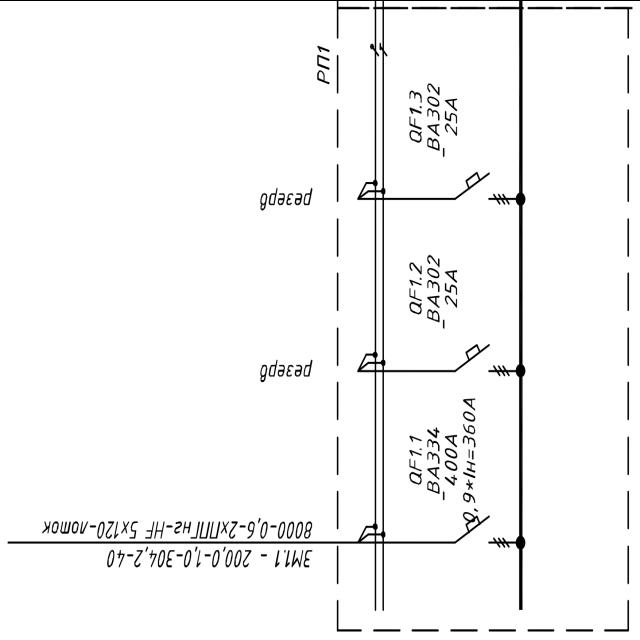-: (425, 394, 477, 522), (424, 252, 458, 330), (424, 82, 458, 156), (311, 41, 333, 87)
QF: (455, 169, 498, 211), (454, 338, 496, 381), (452, 510, 494, 550)
